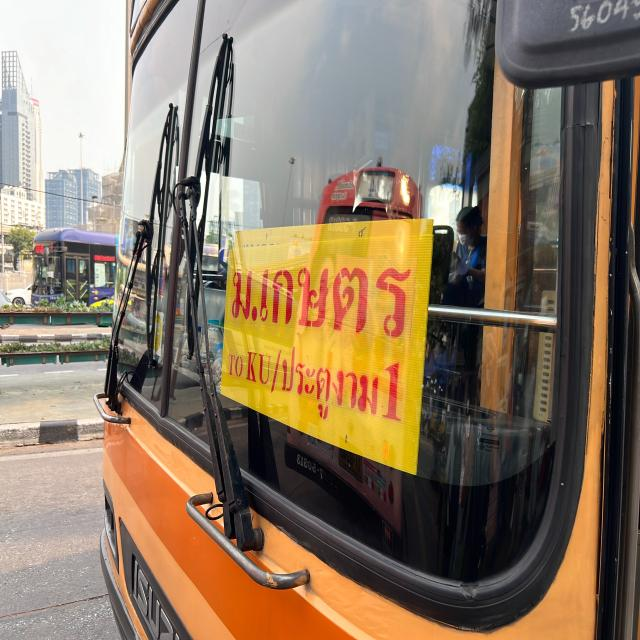BMTA-bus: (91, 0, 640, 640)
Destination-Sign-Extra-Bus-Expressway: (215, 212, 435, 480)
